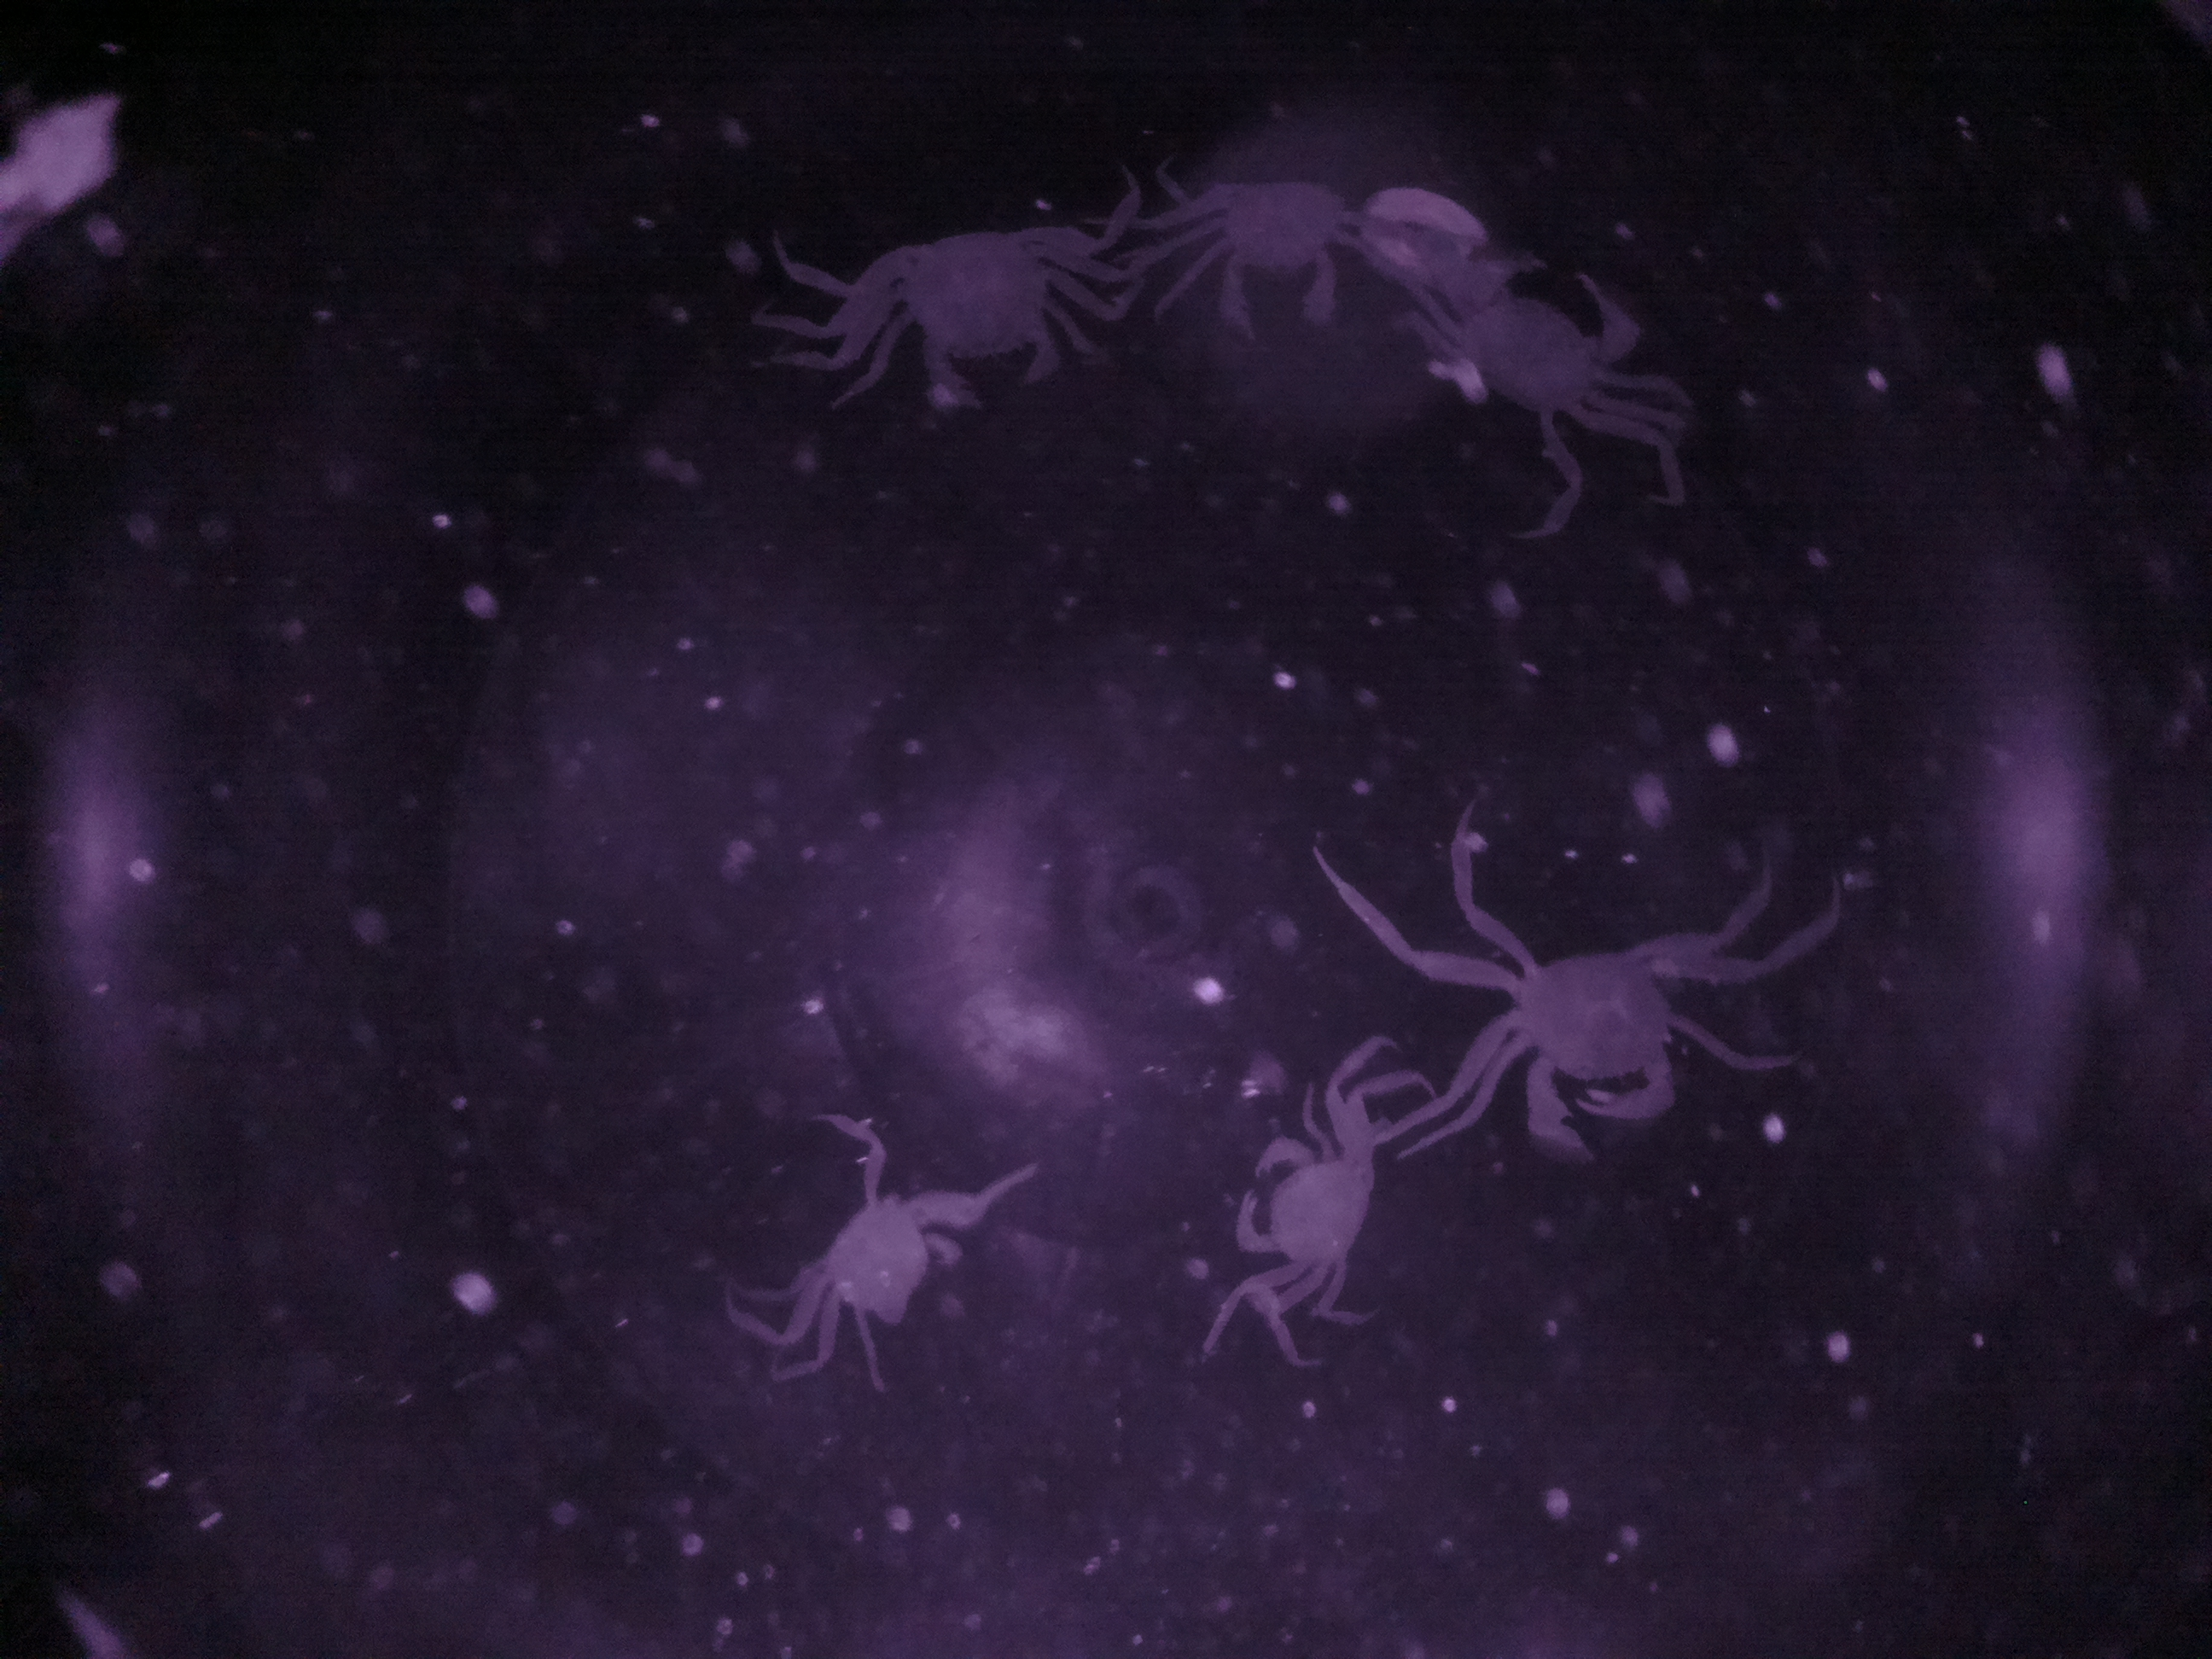Crab: (1437, 910, 1717, 1161), (843, 192, 1120, 439), (1200, 1073, 1402, 1328)
